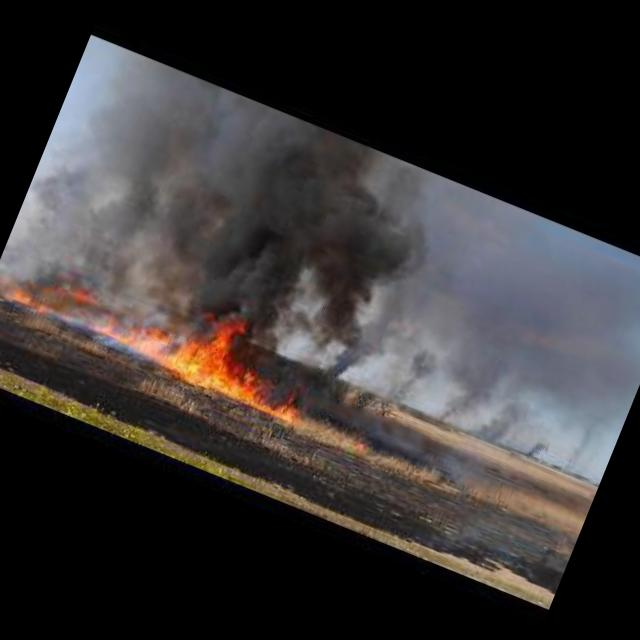fire: (96, 257, 335, 428), (0, 282, 73, 323), (48, 268, 102, 308), (350, 433, 376, 456)
smoke: (3, 32, 302, 336), (233, 124, 445, 388), (324, 306, 398, 391), (384, 334, 444, 412), (479, 388, 534, 451), (436, 367, 484, 431), (560, 423, 604, 480), (525, 425, 556, 463)
